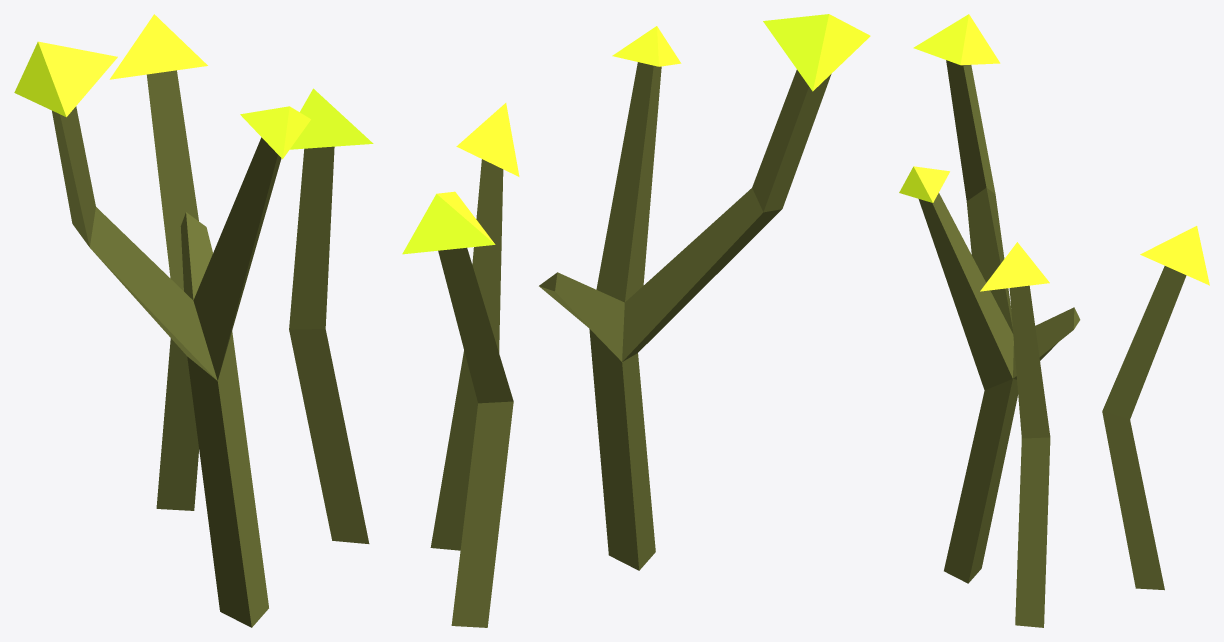
File: Pests-Weed3.fbx
3 renders of one model, left to right at view 1: azimuth 30°, elevation 25°; view 2: azimuth 150°, elevation 25°; view 3: azimuth 270°, elevation 25°, orthographic. The views are drawn at different scales.
Visible parts, largest first — view 1: weed3; view 2: weed3; view 3: weed3.
Part boxes in pixels (x1,y1,x2,y2): weed3: (14, 14, 373, 627); weed3: (402, 14, 870, 627); weed3: (899, 14, 1209, 627).
Size of the model in its own units: 0.1977 by 0.1828 by 0.3131.
